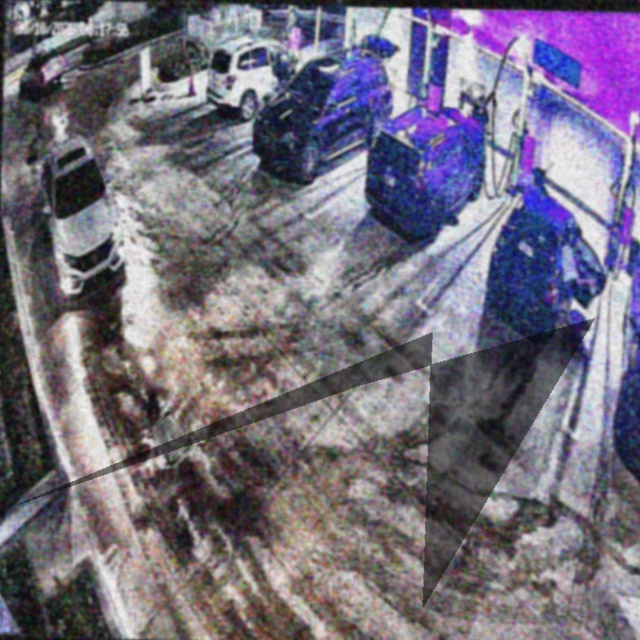Car: (247, 28, 405, 183), (362, 88, 490, 244)
